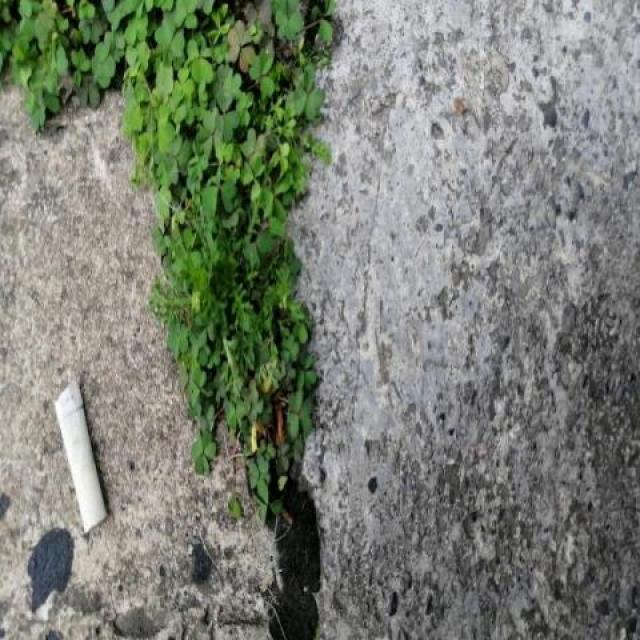non-organic waste: (46, 373, 118, 535)
